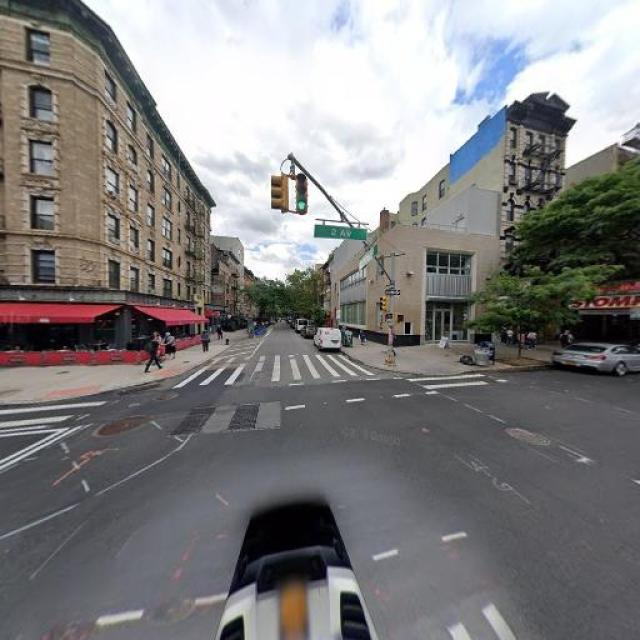Building: (1, 7, 214, 358), (334, 220, 500, 350)
